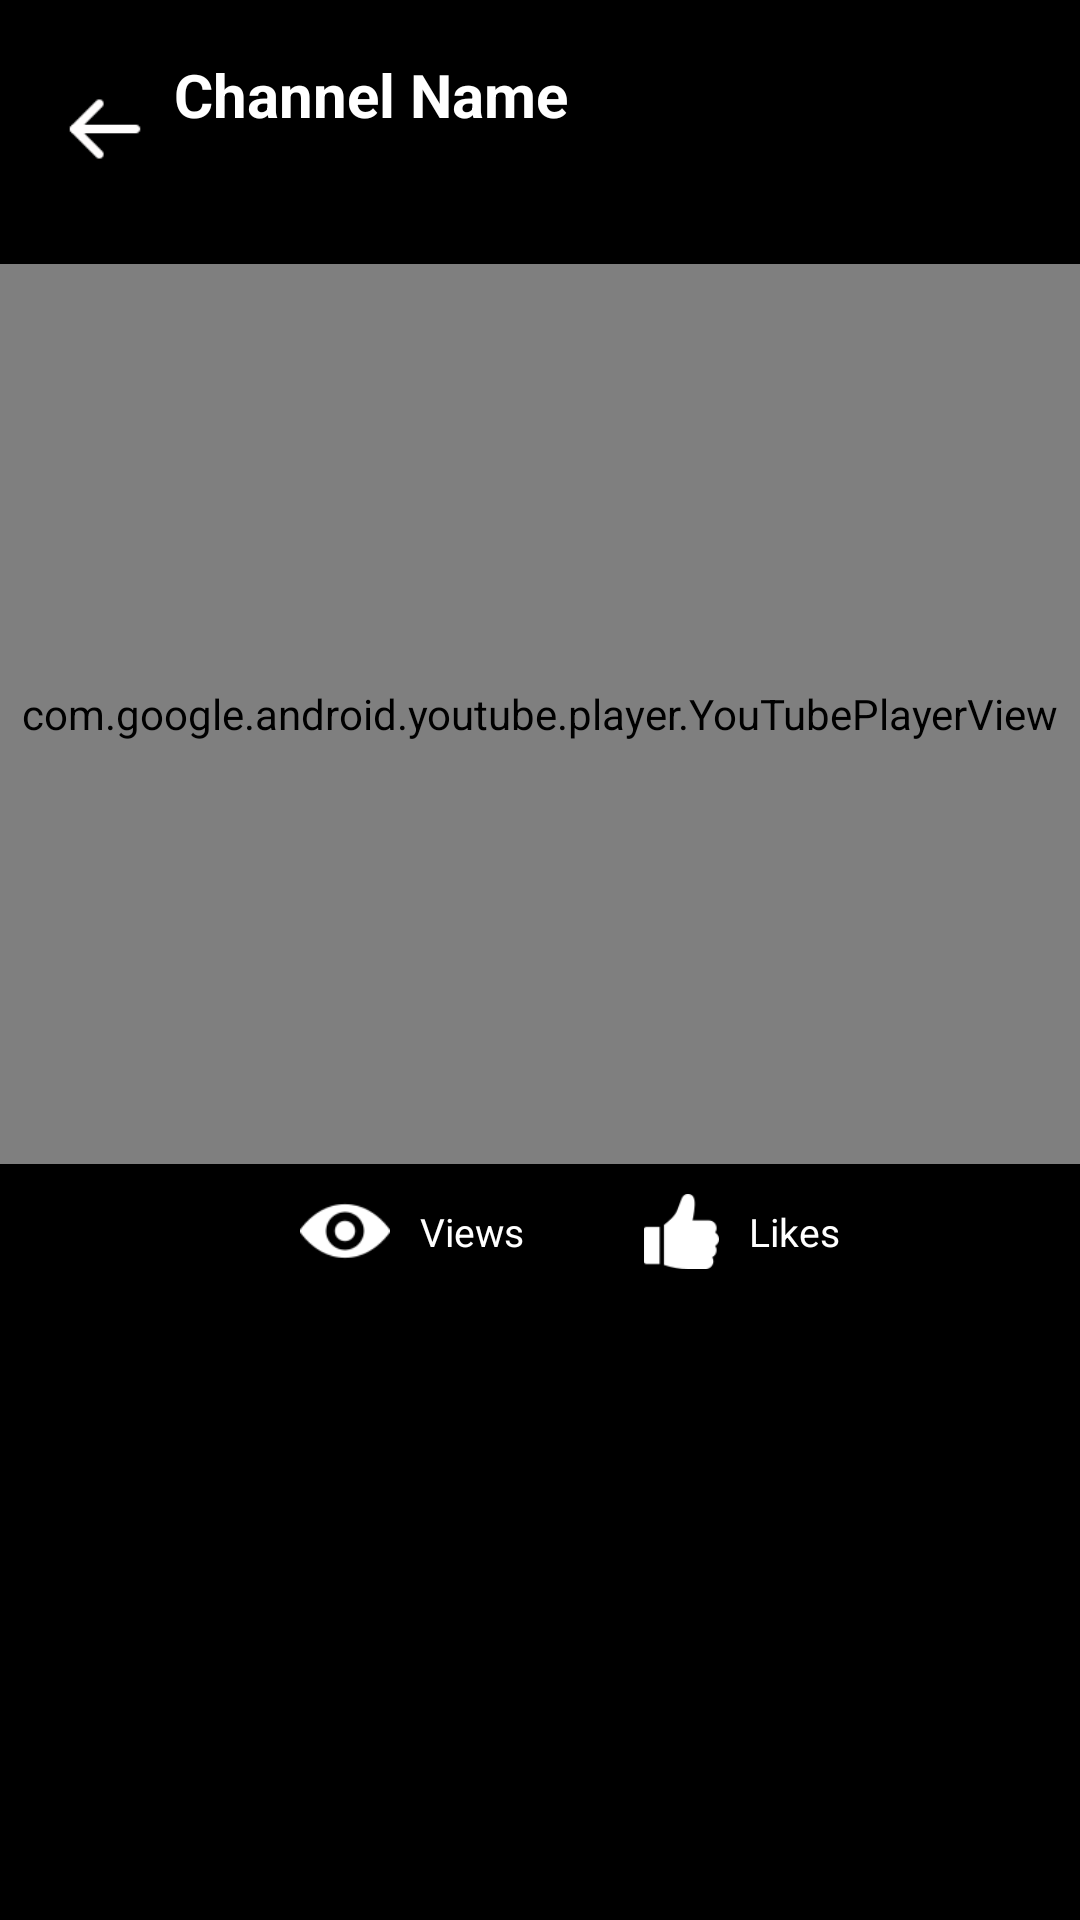

Screen size 1080×1920. Icon name, then its box in pixels as (x1, y1, x2, y2):
back: (69, 99, 141, 159)
eye: (300, 1204, 390, 1258)
